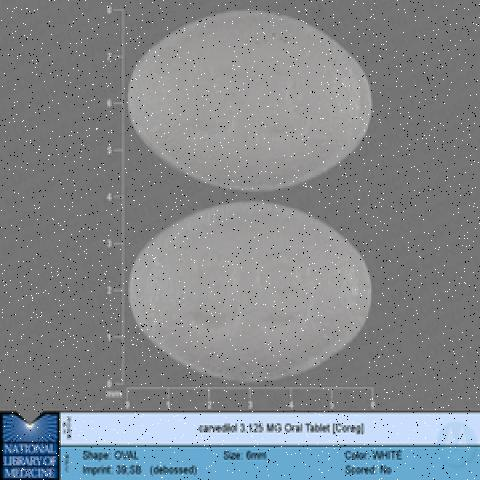Pill: (126, 196, 422, 393), (124, 6, 382, 196)
